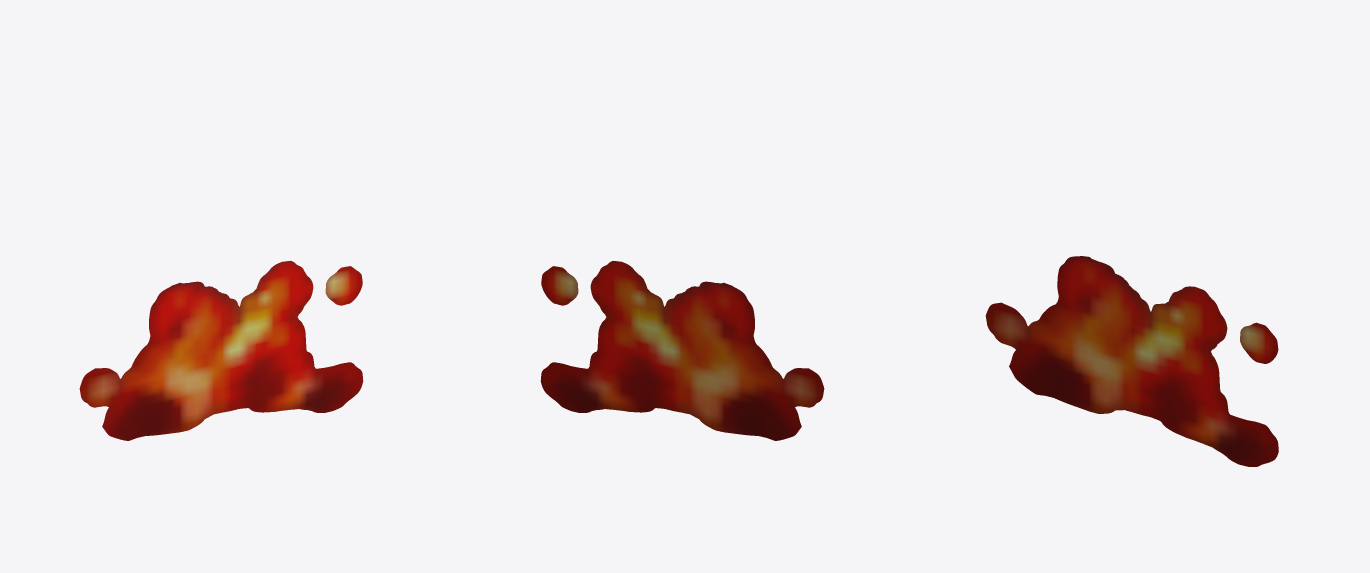
File: Embers.FBX
3 renders of one model, left to right at view 1: azimuth 30°, elevation 25°; view 2: azimuth 150°, elevation 25°; view 3: azimuth 330°, elevation 25°, orthographic. The views are drawn at different scales.
Visible parts, largest first — view 1: Embers; view 2: Embers; view 3: Embers.
Part boxes in pixels (x1=…): Embers: x1=79, y1=260, x2=363, y2=440; Embers: x1=540, y1=260, x2=824, y2=440; Embers: x1=985, y1=256, x2=1278, y2=466.
Bounding box in the file's own units: 61.01 × 60.84 × 1.74e-05.
